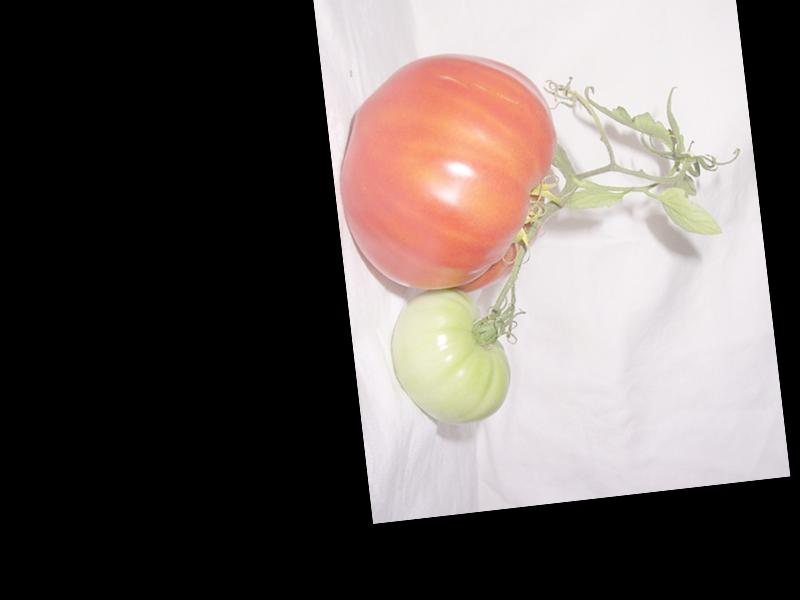Tomato: (328, 42, 572, 305)
